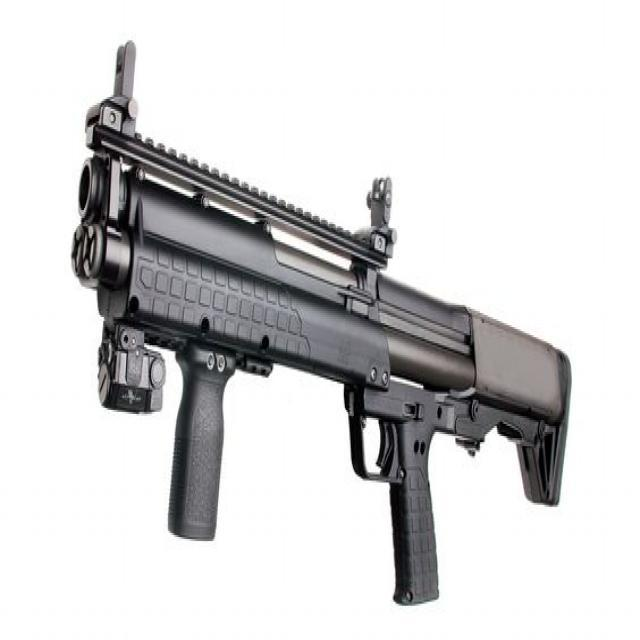shotgun: (75, 58, 589, 596)
